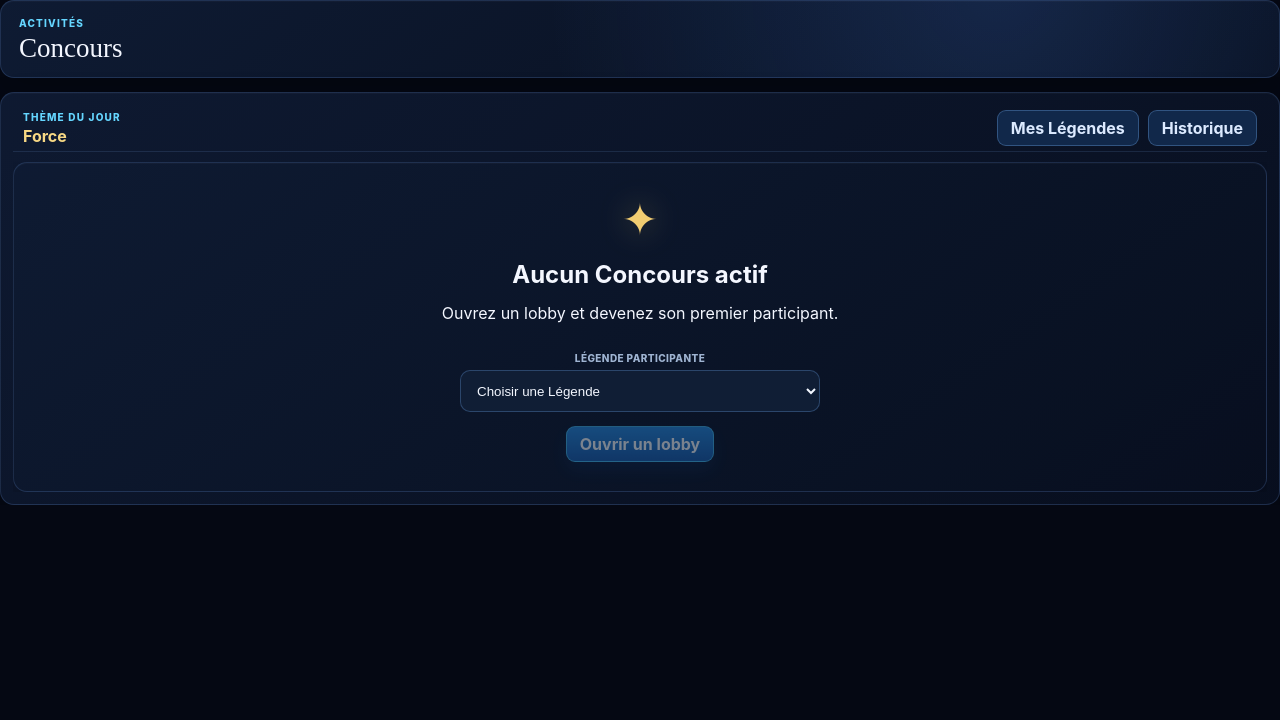
Test: ContestScreen › renders the interpreted public detail for humans, bots, replacement, support, rewards and promotion
Click the button "Historique" at (1202, 128), box [1148, 110, 1257, 146]
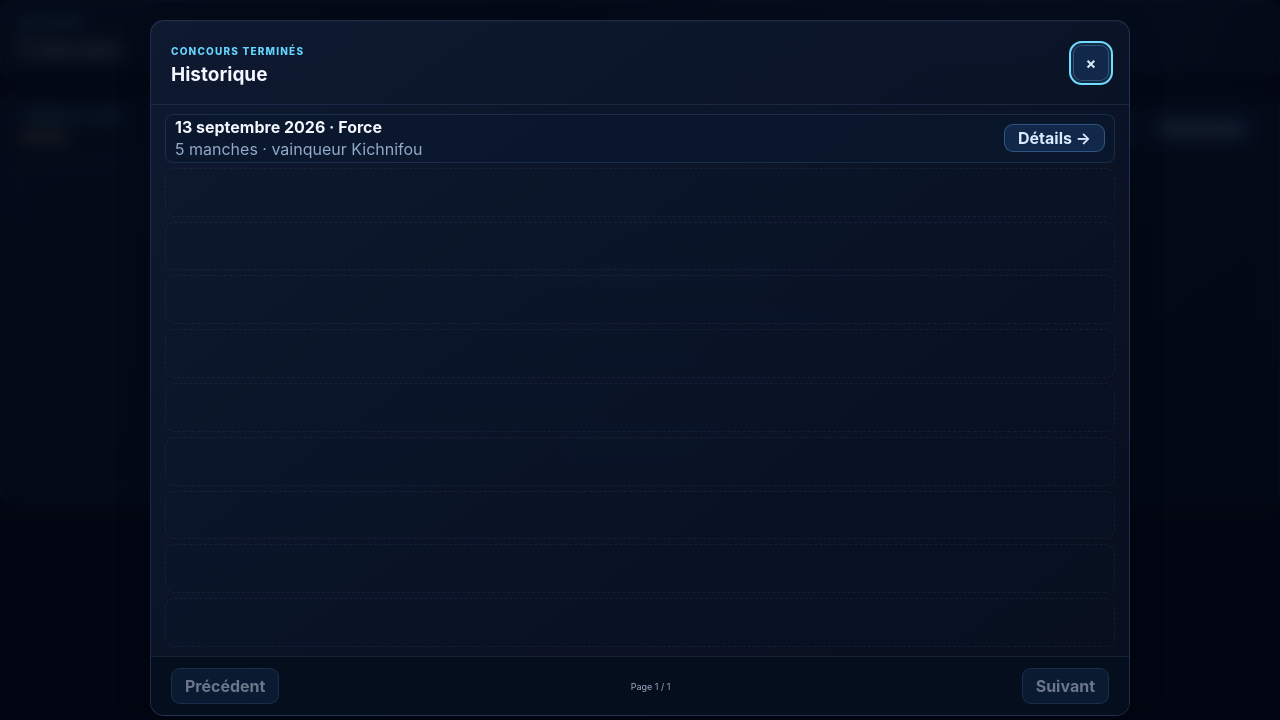
Click the button "Détails →" at (1054, 138), box [1004, 124, 1105, 152]
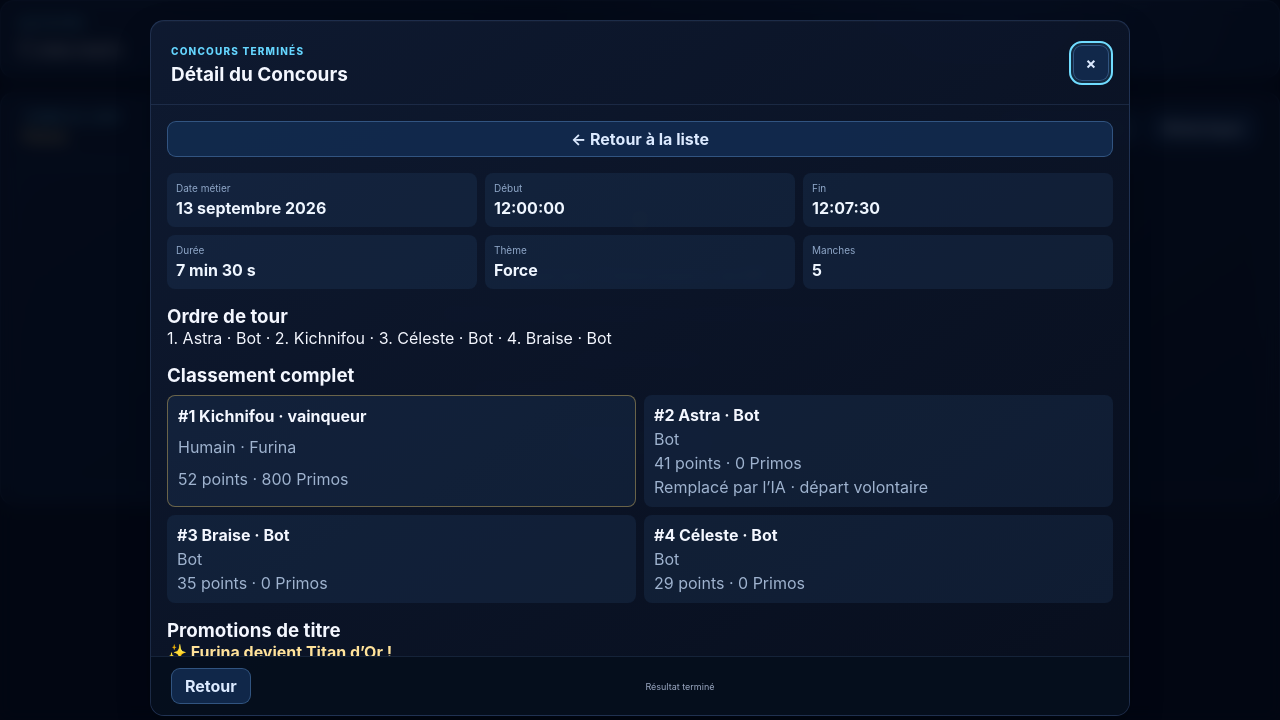
Now the dialog named "Historique des Concours" shows "Date métier", box [176, 182, 230, 194]
Now the dialog named "Historique des Concours" shows "7 min 30 s", box [176, 260, 256, 280]
Now the dialog named "Historique des Concours" shows "Ordre de tour", box [167, 305, 288, 328]
